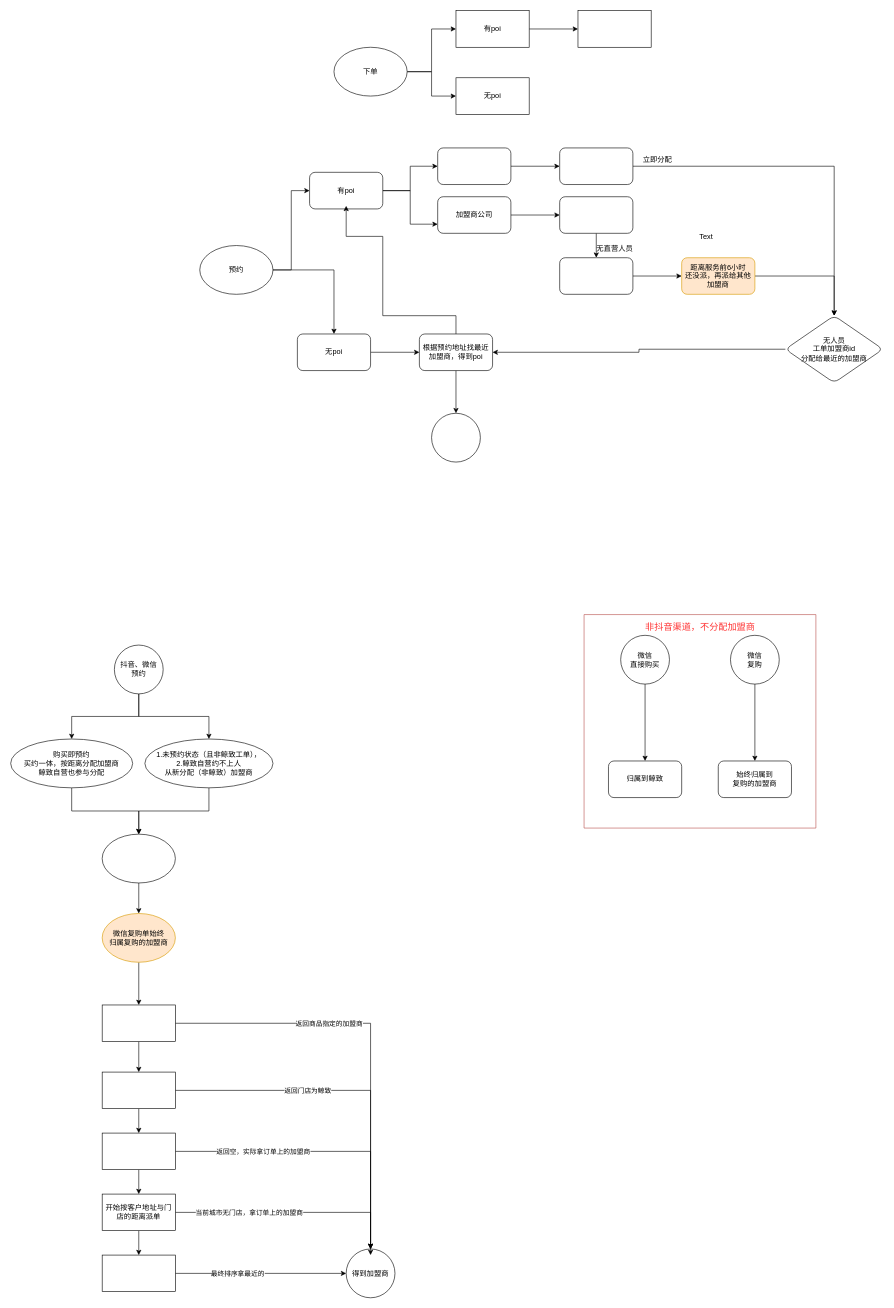
Image size: 894x1308. Some labels were removed from this diagram. Here are the shapes that lost their labels. From the top down, the centre of each, then its label:
the point at 614,28: 拿到加盟商id
the point at 474,166: 自己公司
the point at 596,166: 直营服务者 按区域档期技能派单
the point at 596,214: 直营服务者 跳过区域范围 全城接单 按档期技能派单
the point at 596,275: 等待派兼职人员
the point at 455,437: 更新订单加盟商
the point at 138,858: 开始分配加盟商
the point at 138,1023: 订单中的商品指定加盟商
the point at 138,1090: 直营城市且商品为品类
the point at 138,1151: 若城市，经纬度为空（未预约）
the point at 138,1273: 融合吃低保的门店 距离24小时扩大5公里
